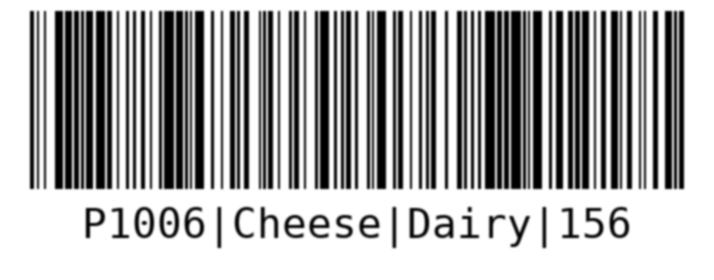milk: (21, 5, 690, 252)
